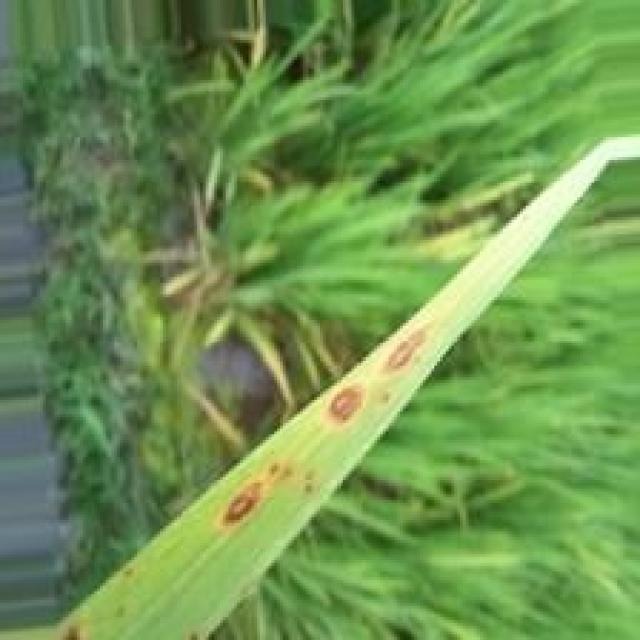Brown_Spot: (216, 480, 266, 532), (381, 321, 429, 369), (325, 383, 364, 427)
